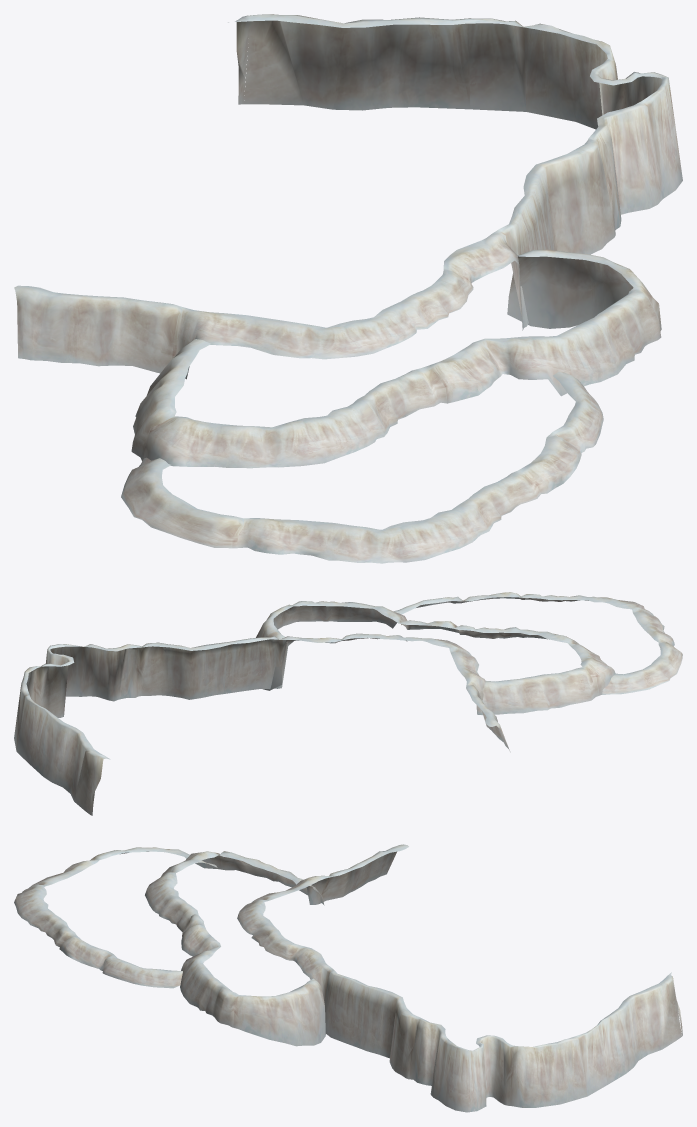
File: M5_T_shanbii001.FBX
3 renders of one model, top to bottom at view 1: azimuth 30°, elevation 25°; view 2: azimuth 150°, elevation 25°; view 3: azimuth 270°, elevation 25°, orthographic. The views are drawn at different scales.
Visible parts, largest first — view 1: M5_T_shanbii001; view 2: M5_T_shanbii001; view 3: M5_T_shanbii001.
Part boxes in pixels (left/top/right/bottom): M5_T_shanbii001: left=14, top=14, right=682, bottom=563; M5_T_shanbii001: left=14, top=592, right=682, bottom=815; M5_T_shanbii001: left=14, top=844, right=682, bottom=1112.
Bounding box in the file's own units: 5991 × 749 × 7154.
